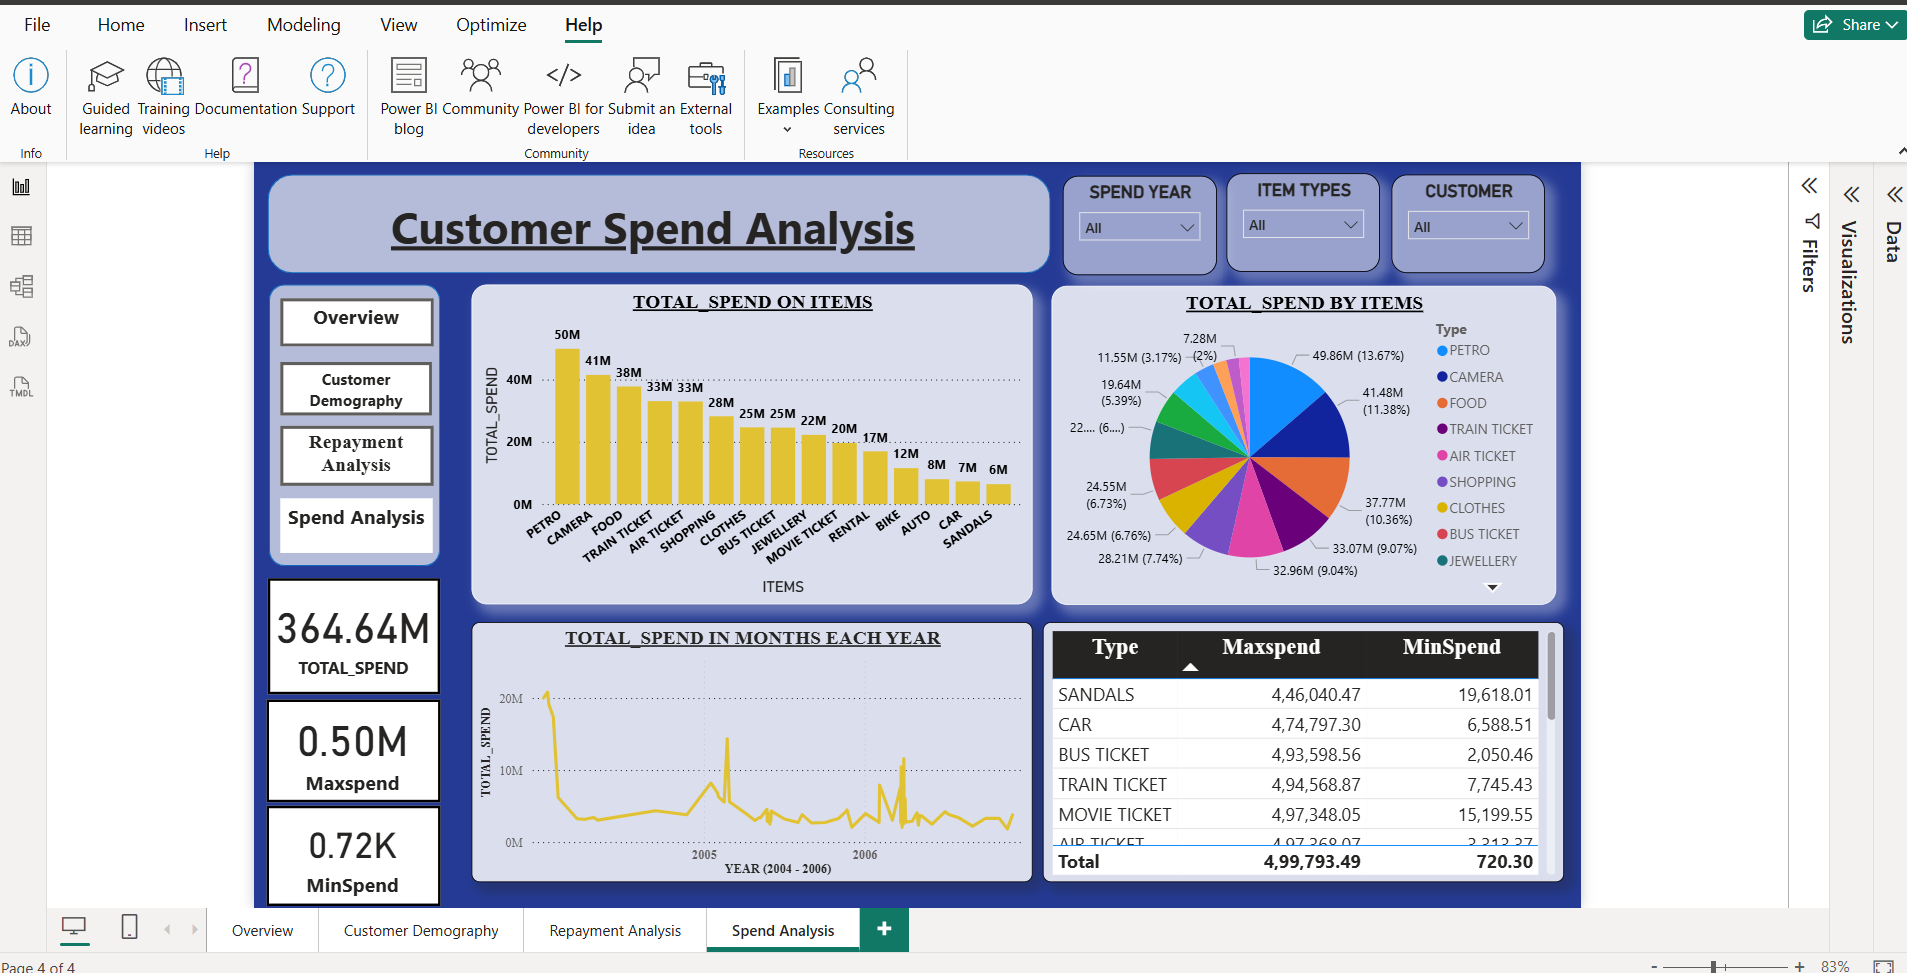

Layout of this report page (visuals, bound fields, positions):
{"tool":"powerbi","page":{"name":"Spend Analysis","canvas":[1280,720],"ordinal":3},"visuals":[{"type":"lineChart","title":"TOTAL_SPEND IN MONTHS EACH YEAR","fields":{"Category":["spend.Month.Variation.Date Hierarchy.Year"],"Y":["spend.TOTAL_SPEND"]},"box":[210,444.3,541.4,251.4],"z":0},{"type":"slicer","title":"SPEND YEAR","fields":{"Values":["spend.Month.Variation.Date Hierarchy.Year1"]},"box":[780,12.9,148.6,95.7],"z":1000},{"type":"tableEx","fields":{"Values":["spend.Type","spend.Maxspend","spend.MinSpend"]},"box":[761.4,444.3,502.9,251.4],"z":2000},{"type":"pieChart","title":"TOTAL_SPEND BY ITEMS","fields":{"Y":["spend.TOTAL_SPEND"],"Category":["spend.Type"]},"box":[769.4,119.4,487.1,308.1],"z":3000},{"type":"columnChart","title":"TOTAL_SPEND ON ITEMS","fields":{"Y":["spend.TOTAL_SPEND"],"Category":["spend.Type"]},"box":[210,118.6,541.4,308.6],"z":4000},{"type":"shape","box":[13.6,12.1,755.6,95.4],"z":5000},{"type":"shape","box":[15,118.3,165,271.7],"z":6000},{"type":"textbox","box":[25.1,194,146.5,50.7],"z":7000},{"type":"textbox","box":[25.1,254.6,146.5,57.7],"z":8000},{"type":"textbox","box":[25.3,324.9,146.9,53],"z":9000},{"type":"actionButton","box":[25,193.3,146.7,51.7],"z":10000},{"type":"actionButton","box":[25.1,254.4,148,58],"z":11000},{"type":"textbox","box":[0,28.3,770,76.7],"z":12000},{"type":"slicer","title":"ITEM TYPES","fields":{"Values":["spend.Type"]},"box":[938.8,10.6,148.4,95.4],"z":13000},{"type":"card","fields":{"Values":["spend.TOTAL_SPEND"]},"box":[13.3,401.7,166.7,111.7],"z":14000},{"type":"slicer","title":"CUSTOMER","fields":{"Values":["spend.Customer"]},"box":[1097.8,12.1,148.4,95.4],"z":15000},{"type":"card","fields":{"Values":["spend.Maxspend"]},"box":[12.1,518.8,167.7,98.9],"z":16000},{"type":"card","fields":{"Values":["spend.MinSpend"]},"box":[12.1,621.3,167.7,96.5],"z":17000},{"type":"textbox","box":[25,131.7,146.7,46.7],"z":18000},{"type":"actionButton","box":[25,131.7,148.3,46.7],"z":19000}]}

Visuals, with their boxes on the page's 1280x720 design canvas (x1, y1, x2, y2). These are canvas units, not pixel positions in the 1907x973 screenshot, which may show the page scaled, cropped or inside an application window:
"TOTAL_SPEND IN MONTHS EACH YEAR" lineChart: {"x1": 210, "y1": 444, "x2": 751, "y2": 696}
"SPEND YEAR" slicer: {"x1": 780, "y1": 13, "x2": 929, "y2": 109}
tableEx - spend.Type x spend.Maxspend: {"x1": 761, "y1": 444, "x2": 1264, "y2": 696}
"TOTAL_SPEND BY ITEMS" pieChart: {"x1": 769, "y1": 119, "x2": 1256, "y2": 428}
"TOTAL_SPEND ON ITEMS" columnChart: {"x1": 210, "y1": 119, "x2": 751, "y2": 427}
shape: {"x1": 14, "y1": 12, "x2": 769, "y2": 108}
shape: {"x1": 15, "y1": 118, "x2": 180, "y2": 390}
textbox: {"x1": 25, "y1": 194, "x2": 172, "y2": 245}
textbox: {"x1": 25, "y1": 255, "x2": 172, "y2": 312}
textbox: {"x1": 25, "y1": 325, "x2": 172, "y2": 378}
actionButton: {"x1": 25, "y1": 193, "x2": 172, "y2": 245}
actionButton: {"x1": 25, "y1": 254, "x2": 173, "y2": 312}
textbox: {"x1": 0, "y1": 28, "x2": 770, "y2": 105}
"ITEM TYPES" slicer: {"x1": 939, "y1": 11, "x2": 1087, "y2": 106}
card - spend.TOTAL_SPEND: {"x1": 13, "y1": 402, "x2": 180, "y2": 513}
"CUSTOMER" slicer: {"x1": 1098, "y1": 12, "x2": 1246, "y2": 108}
card - spend.Maxspend: {"x1": 12, "y1": 519, "x2": 180, "y2": 618}
card - spend.MinSpend: {"x1": 12, "y1": 621, "x2": 180, "y2": 718}
textbox: {"x1": 25, "y1": 132, "x2": 172, "y2": 178}
actionButton: {"x1": 25, "y1": 132, "x2": 173, "y2": 178}
